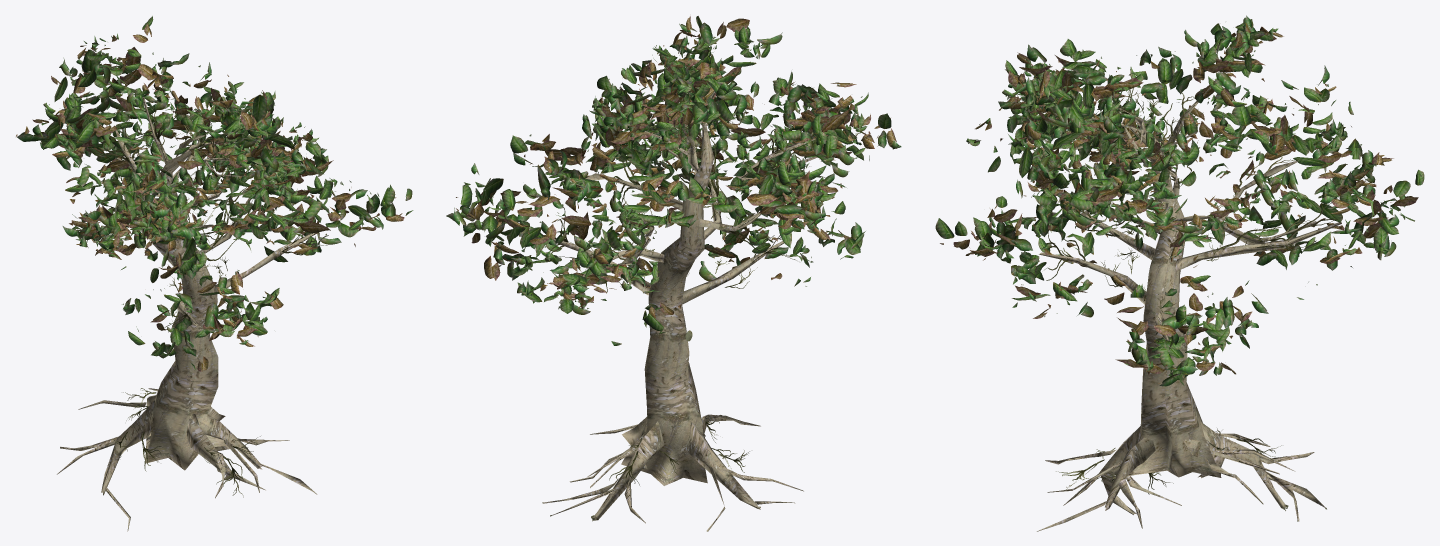
The model's file is kingsville_wood_lod1.gltf.
The picture shows the model from 3 angles, left to right: view 1: azimuth 30°, elevation 25°; view 2: azimuth 150°, elevation 25°; view 3: azimuth 270°, elevation 25°; orthographic projection. The views are drawn at different scales.
Visible parts, largest first — view 1: Kingsville wood; view 2: Kingsville wood; view 3: Kingsville wood.
Part boxes in pixels (<box>): Kingsville wood: <box>16,16,413,531</box>; Kingsville wood: <box>446,16,901,531</box>; Kingsville wood: <box>935,15,1424,531</box>.
Size of the model in its own units: 3.84 by 4.45 by 4.11.
Materials: 4 (4 with a texture image).
